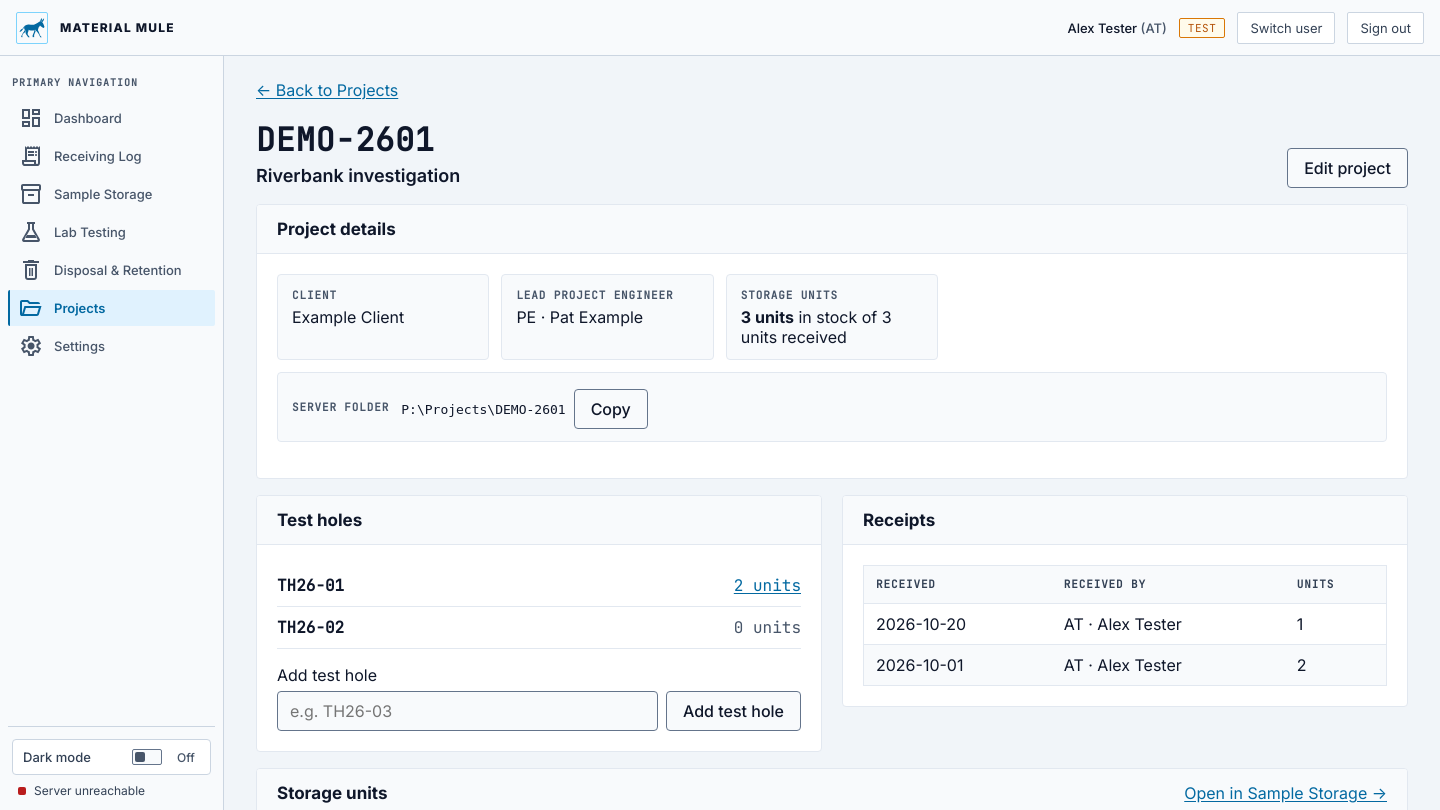
it: Project detail (MM-T35) › MM-T61: a save cut off by the network says to reload and check
Step 1. Click the button "Edit project" → (1348, 168), box [1287,148,1408,188]
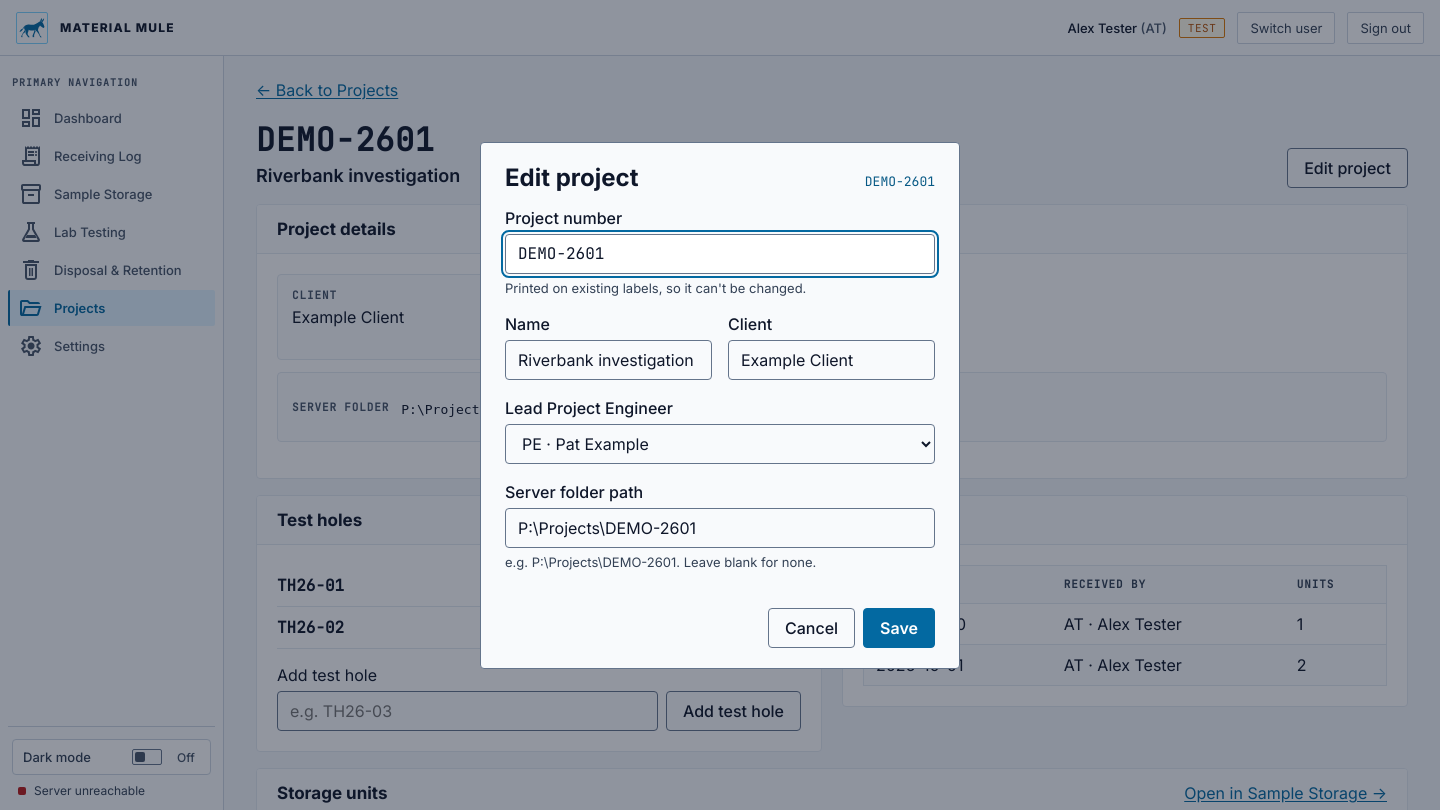
Step 2. Clear the field labelled "Name" → (608, 360), box [505,340,712,380]
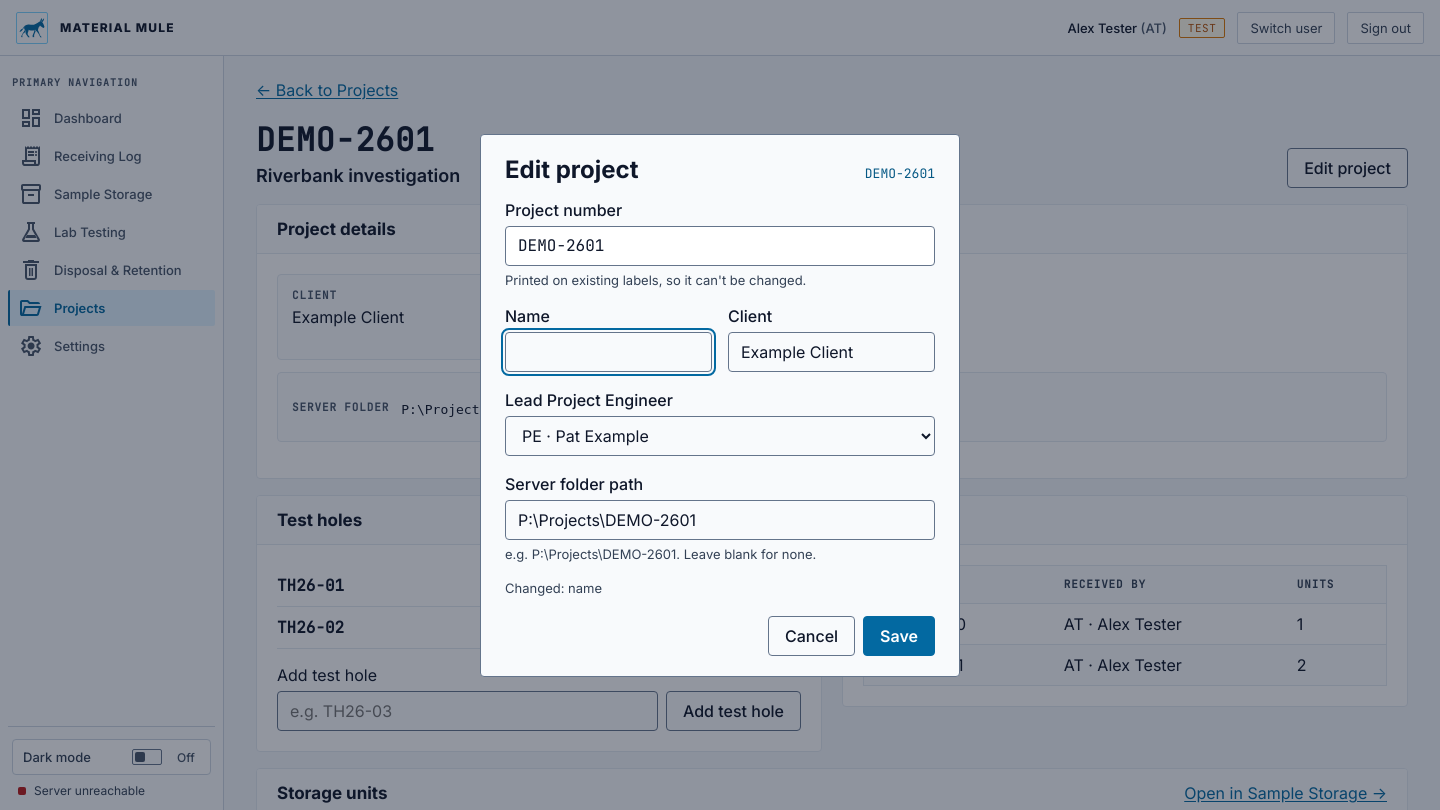
Step 3. Type "Riverbank investigation phase 2" into the field labelled "Name" → (608, 352), box [505,332,712,372]
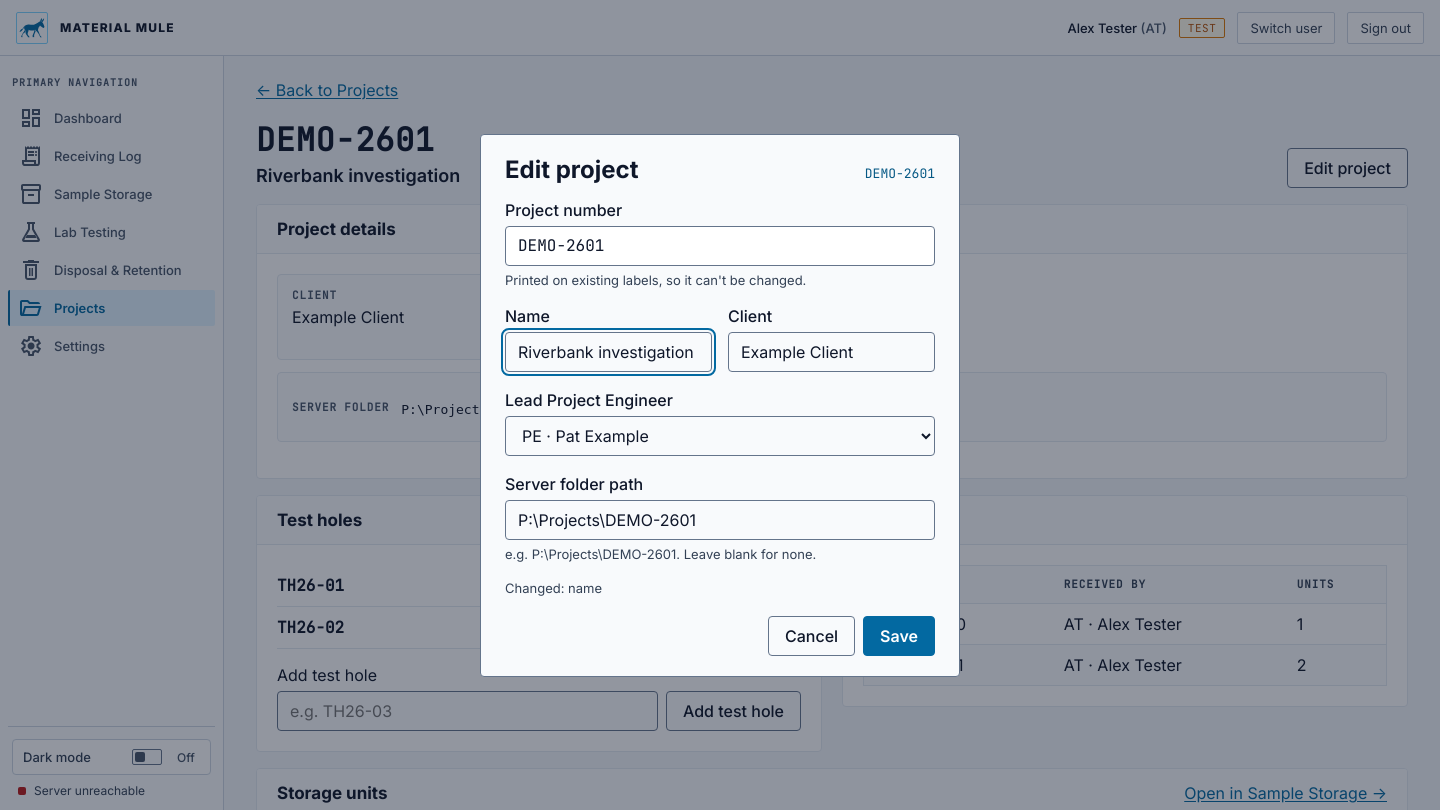
Step 4. Click the button "Save" → (899, 636), box [863,616,935,656]
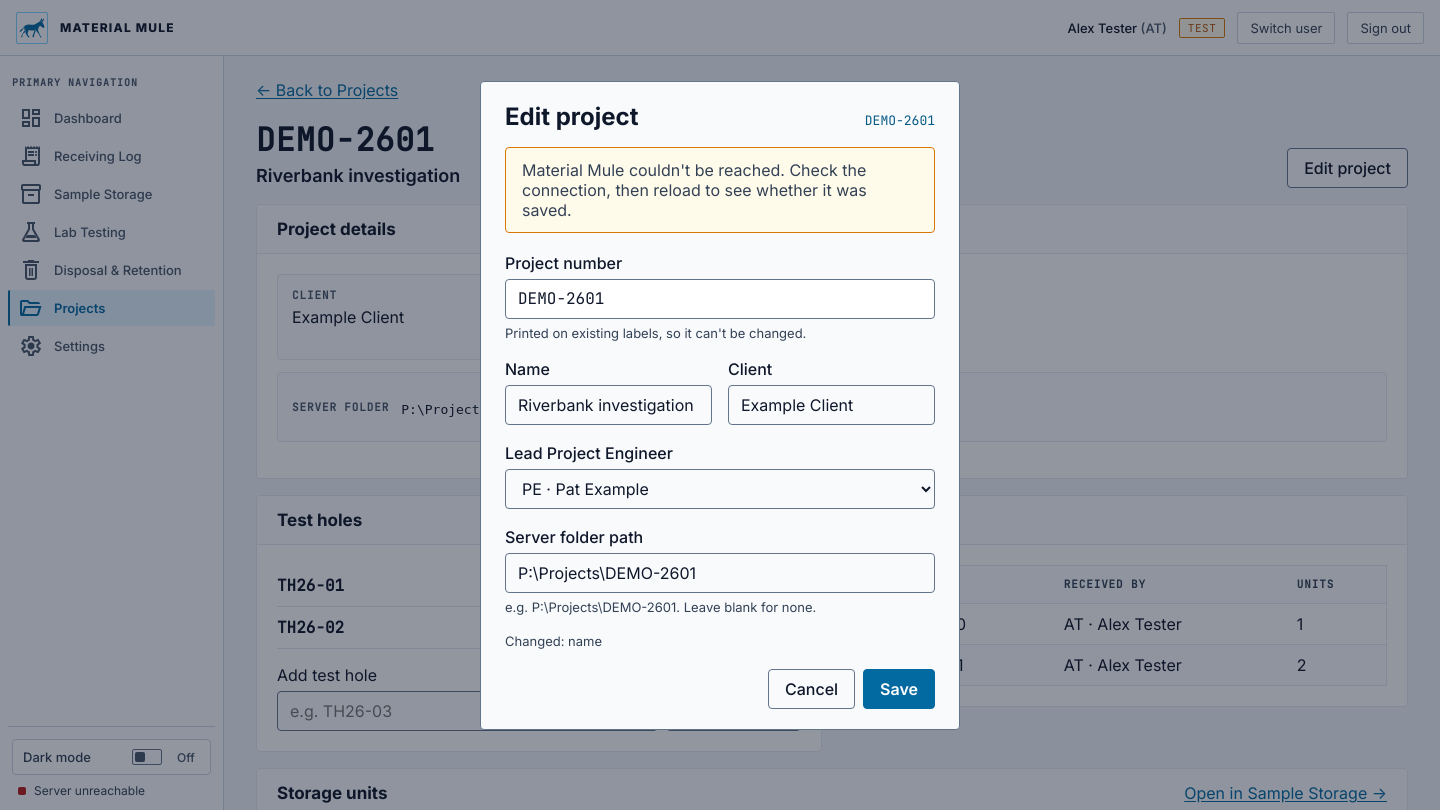
Now the text "Material Mule couldn't be reached. Check the connection, then reload to see whether it was saved." is shown, box [522,160,867,220]
